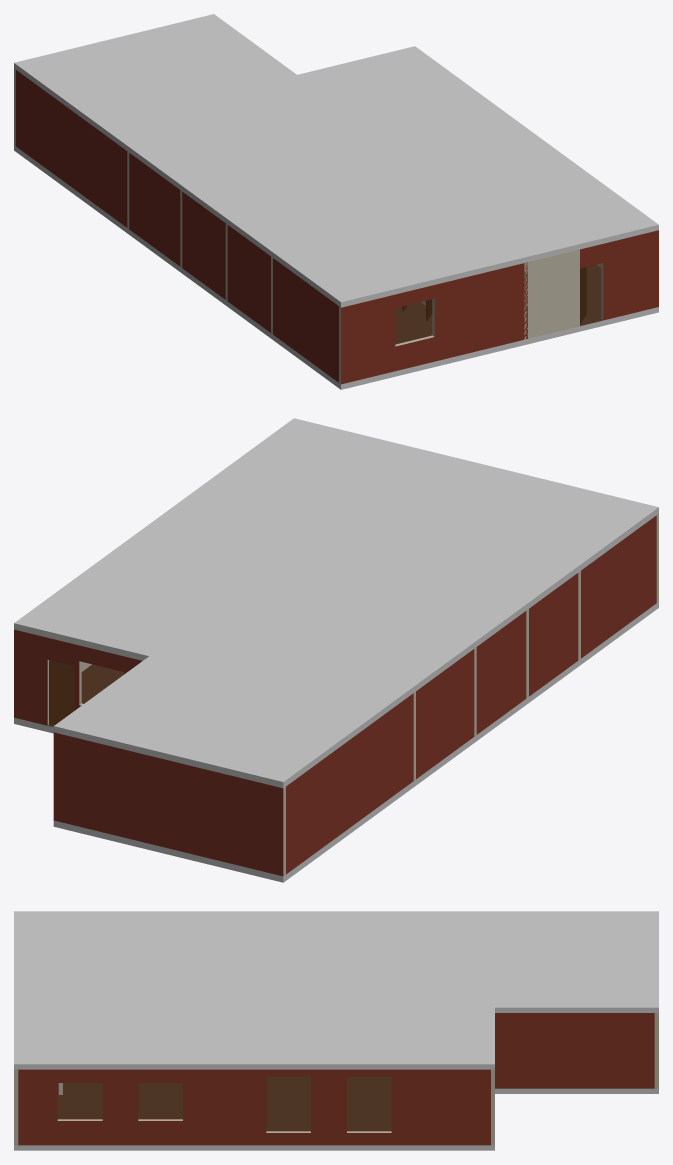
The model's file is blueprint.obj.
The picture shows the model from 3 angles, top to bottom: view 1: azimuth 30°, elevation 25°; view 2: azimuth 150°, elevation 25°; view 3: azimuth 270°, elevation 25°; orthographic projection. The views are drawn at different scales.
Visible parts, largest first — view 1: F1_Room_16, F1_Room_12, F1_Room_17, F1_Room_1, F1_Room_14, F1_Room_5, F1_Room_11, F1_Room_10, F1_Room_15, F1_Room_6, F1_Room_7, F1_Room_8 (+4 smaller); view 2: F1_Room_16, F1_Room_1, F1_Room_12, F1_Room_17, F1_Room_14, F1_Room_15, F1_Room_5, F1_Room_10, F1_Room_6, F1_Room_11, F1_Room_7, F1_Room_8 (+4 smaller); view 3: F1_Room_16, F1_Room_1, F1_Room_17, F1_Room_12, F1_Room_15, F1_Room_14, F1_Room_5, F1_Room_11, F1_Room_7, F1_Room_8, F1_Room_10, F1_Room_6 (+5 smaller).
Boxes of the visible parts, x1,y1,x2,y2 form: F1_Room_16: [14, 14, 323, 232]; F1_Room_12: [273, 217, 484, 389]; F1_Room_17: [422, 147, 658, 344]; F1_Room_1: [298, 68, 552, 183]; F1_Room_14: [127, 110, 323, 271]; F1_Room_5: [180, 149, 355, 295]; F1_Room_11: [417, 207, 527, 354]; F1_Room_10: [227, 206, 324, 339]; F1_Room_15: [294, 46, 444, 97]; F1_Room_6: [211, 182, 335, 306]; F1_Room_7: [280, 193, 380, 239]; F1_Room_8: [321, 172, 420, 311]; F1_Room_16: [53, 632, 413, 882]; F1_Room_1: [49, 507, 341, 701]; F1_Room_12: [416, 467, 658, 664]; F1_Room_17: [173, 418, 443, 543]; F1_Room_14: [248, 602, 474, 786]; F1_Room_15: [14, 598, 187, 733]; F1_Room_5: [309, 575, 511, 742]; F1_Room_10: [469, 550, 580, 702]; F1_Room_6: [387, 572, 528, 715]; F1_Room_11: [367, 455, 492, 523]; F1_Room_7: [404, 534, 520, 587]; F1_Room_8: [342, 523, 455, 584]; F1_Room_16: [435, 911, 658, 1093]; F1_Room_1: [222, 993, 435, 1150]; F1_Room_17: [14, 1001, 224, 1150]; F1_Room_12: [14, 911, 147, 980]; F1_Room_15: [433, 1005, 494, 1150]; F1_Room_14: [331, 911, 435, 980]; F1_Room_5: [267, 911, 330, 980]; F1_Room_11: [14, 980, 147, 1001]; F1_Room_7: [148, 936, 237, 963]; F1_Room_8: [148, 963, 267, 982]; F1_Room_10: [148, 911, 237, 936]; F1_Room_6: [237, 911, 267, 963].
Size of the model in its own units: 12.14 by 3.2 by 21.64.
